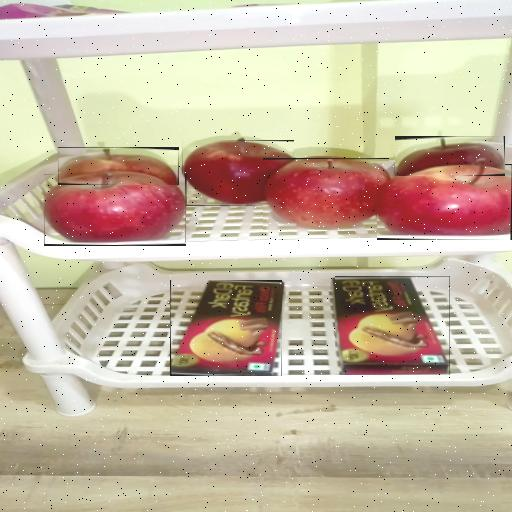Apple: (377, 164, 512, 240), (44, 174, 186, 246), (263, 158, 389, 230), (182, 140, 294, 206), (58, 147, 179, 185), (395, 136, 505, 176)
Choco Fills: (335, 276, 450, 375), (170, 280, 282, 376)
